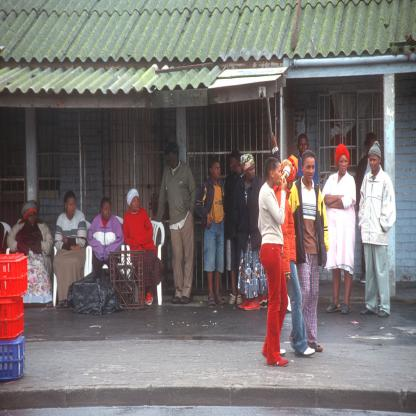Not_Wearing_Mask: (274, 161, 283, 187), (305, 159, 316, 180), (368, 153, 379, 172), (166, 151, 176, 170), (66, 199, 76, 217), (339, 156, 348, 175), (247, 162, 256, 181), (26, 212, 37, 227), (102, 203, 111, 221), (131, 193, 139, 211), (299, 138, 307, 154), (213, 163, 220, 181)
